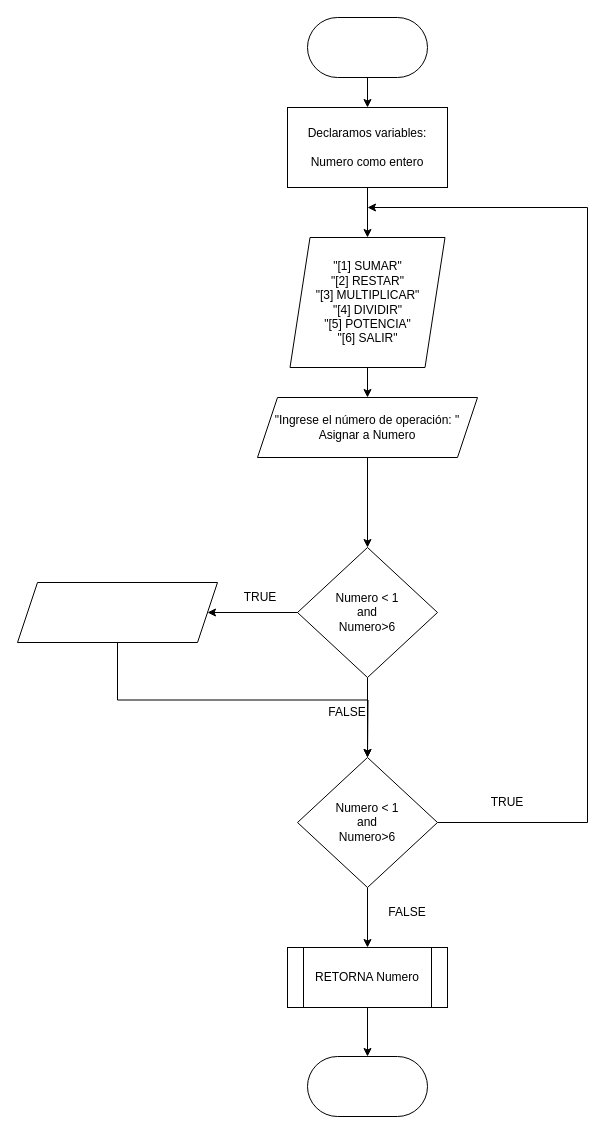
This 613x1134 diagram has some shape labels left out. Here are the shapes that lost their labels. From the top down, the centre of each, then its label:
[367,47]: INICIO ElijeOperacion()
[117,612]: "Ingreso un número no válido
[367,1086]: FIN ElijeOperacion()
